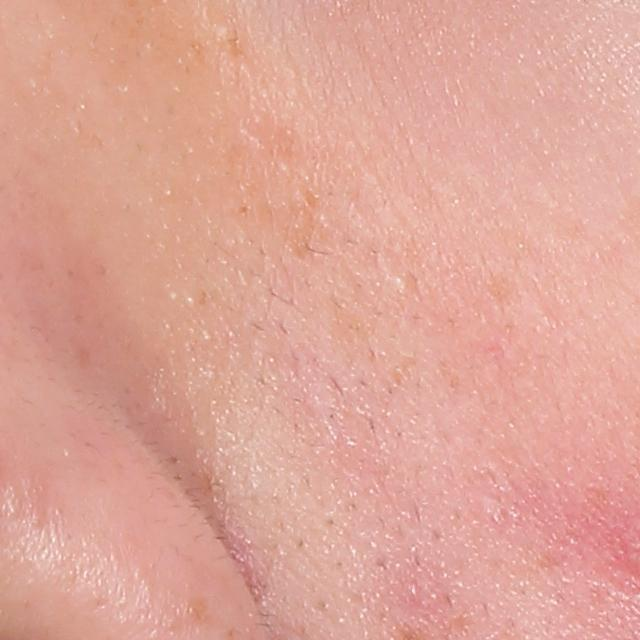comedo: (391, 272, 410, 289)
